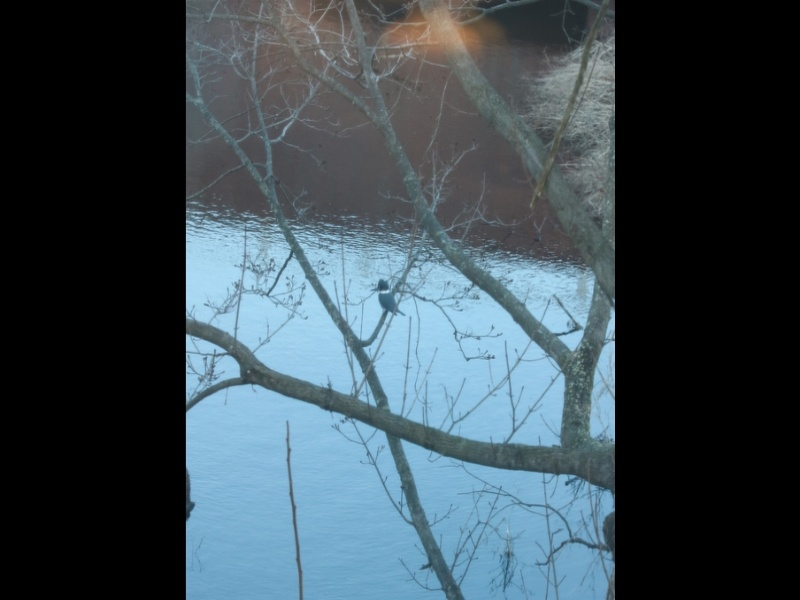kingfisher: (371, 278, 403, 318)
